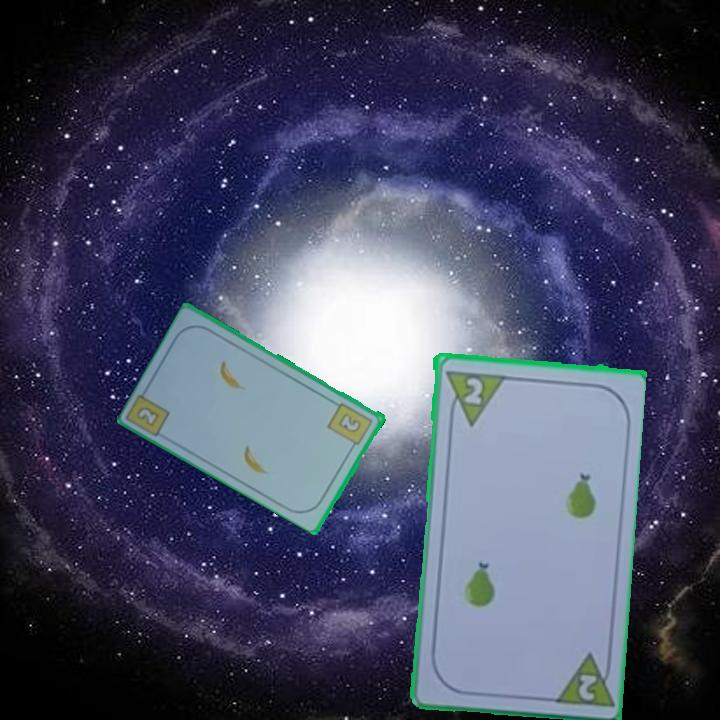2b: (325, 399, 376, 452), (135, 403, 162, 429)
2p: (549, 647, 614, 710), (441, 366, 505, 428)
